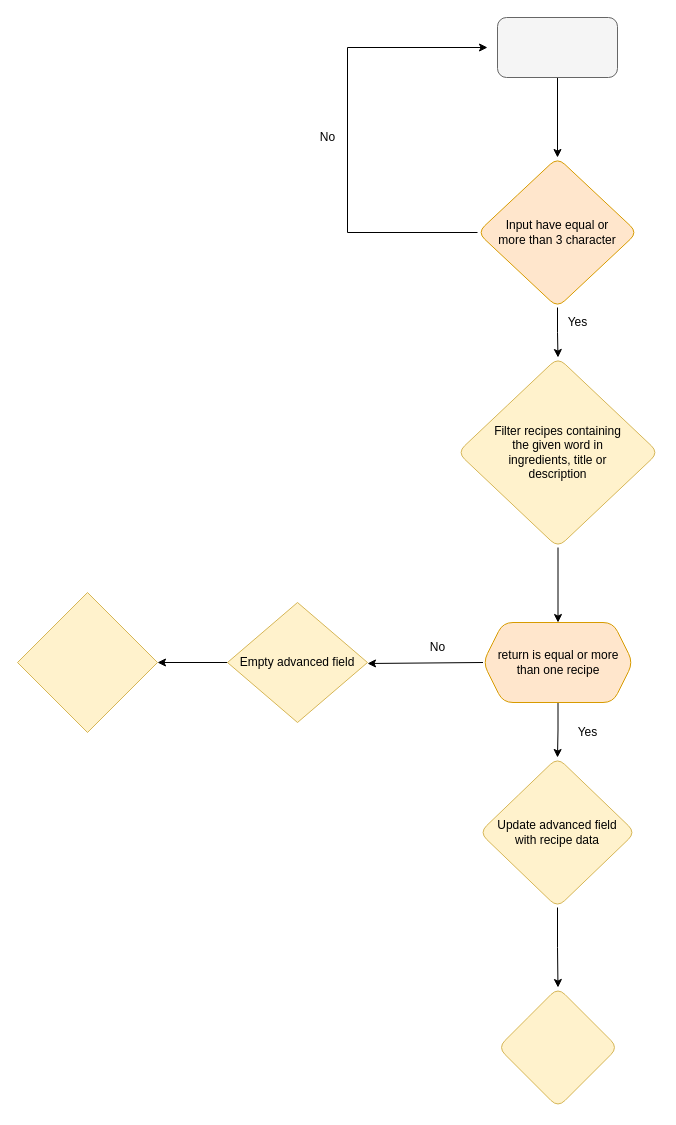
The diagram is 676 pixels wide and 1125 high, and some of its shapes have lost their labels. Each missing label, with the centre of its shape:
"Empty displayed recipe" goes at point 87,662.
"Update displayed recipe" goes at point 557,1047.
"User fill search input" goes at point 557,47.
